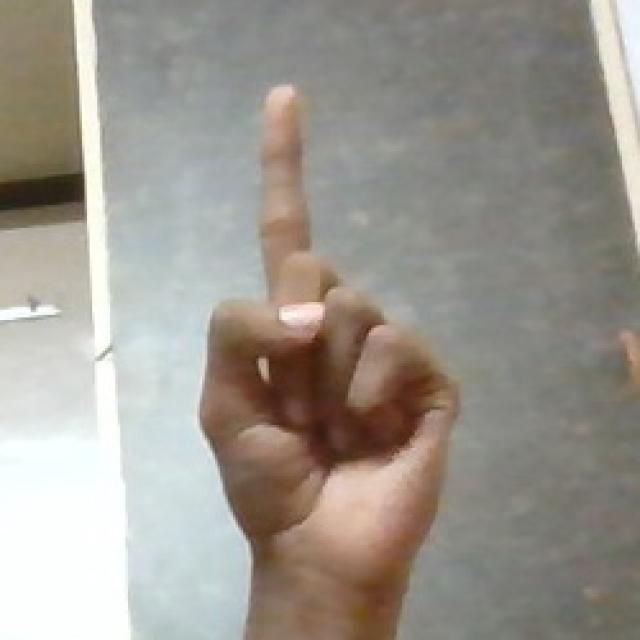Numeric-1: (207, 75, 422, 627)
